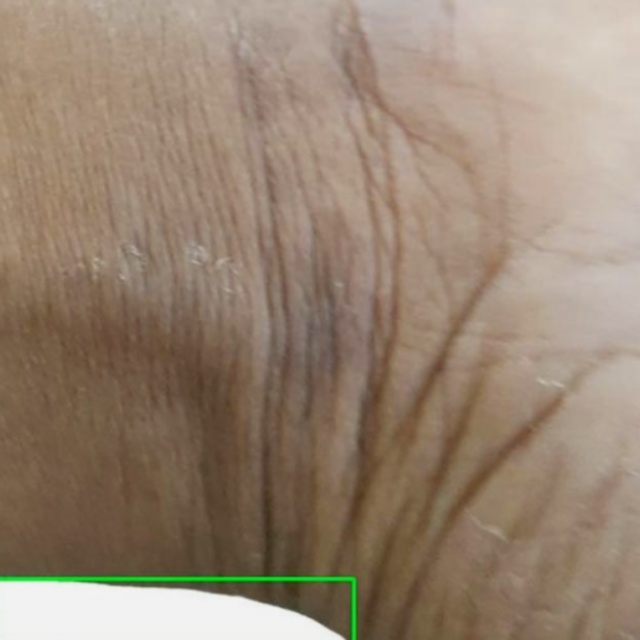Scabies: (0, 578, 354, 639)
